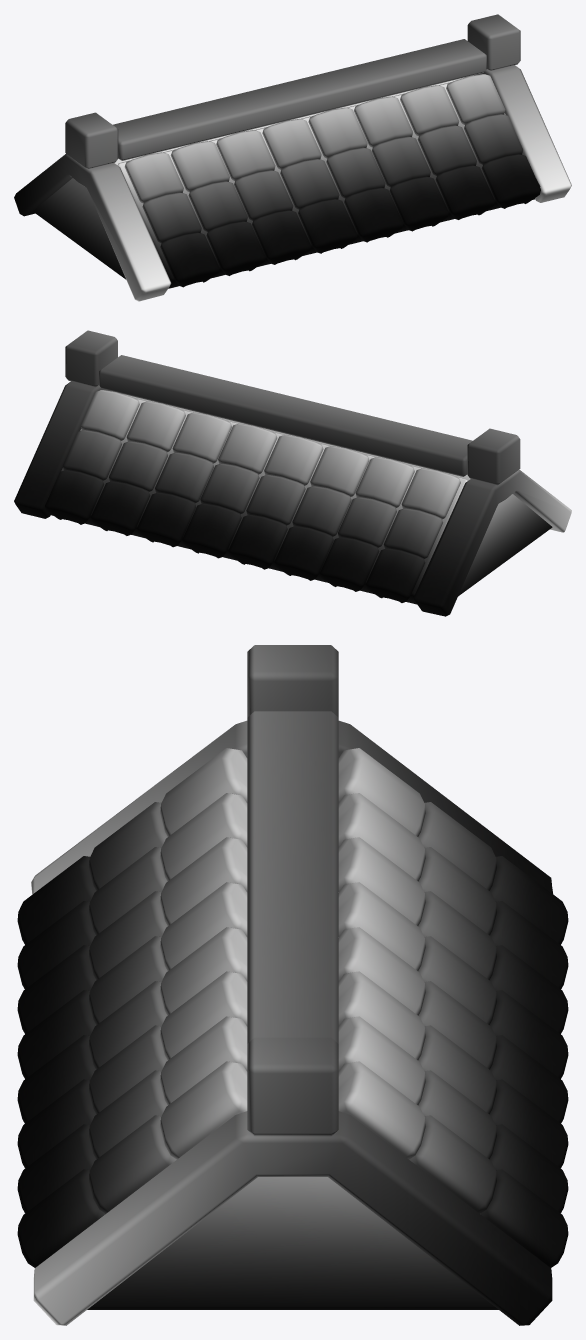
File: SM_Brick_Roof_06.fbx
The picture shows the model from 3 angles, top to bottom: view 1: azimuth 30°, elevation 25°; view 2: azimuth 150°, elevation 25°; view 3: azimuth 270°, elevation 25°; orthographic projection. The views are drawn at different scales.
Parts seen in each view (by area): view 1: SM_Brick_Roof_06; view 2: SM_Brick_Roof_06; view 3: SM_Brick_Roof_06.
Boxes of the visible parts, <box> form: SM_Brick_Roof_06: <box>14,14,571,301</box>; SM_Brick_Roof_06: <box>14,330,571,616</box>; SM_Brick_Roof_06: <box>17,645,568,1325</box>.
Bounding box in the file's own units: 2.02 × 0.592 × 1.11.
